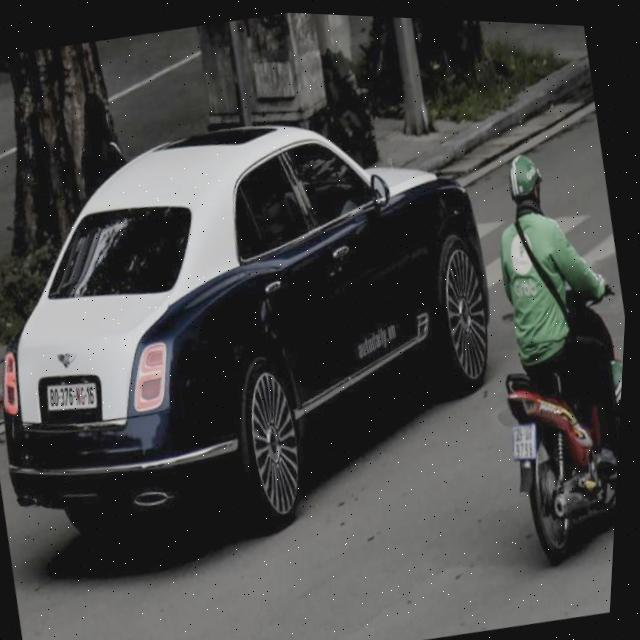car: (0, 77, 539, 594)
motorcycle: (474, 344, 623, 568)
plate: (33, 364, 109, 420), (496, 412, 548, 466)
